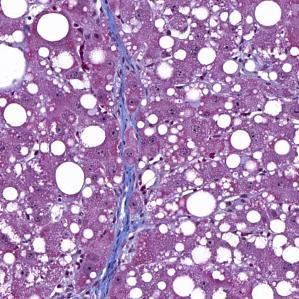fibrosis: (112, 51, 148, 166), (94, 202, 142, 287)
